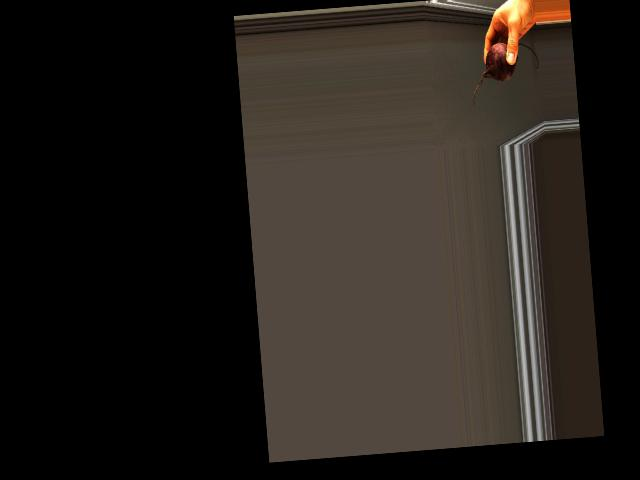beet: (469, 40, 542, 107)
